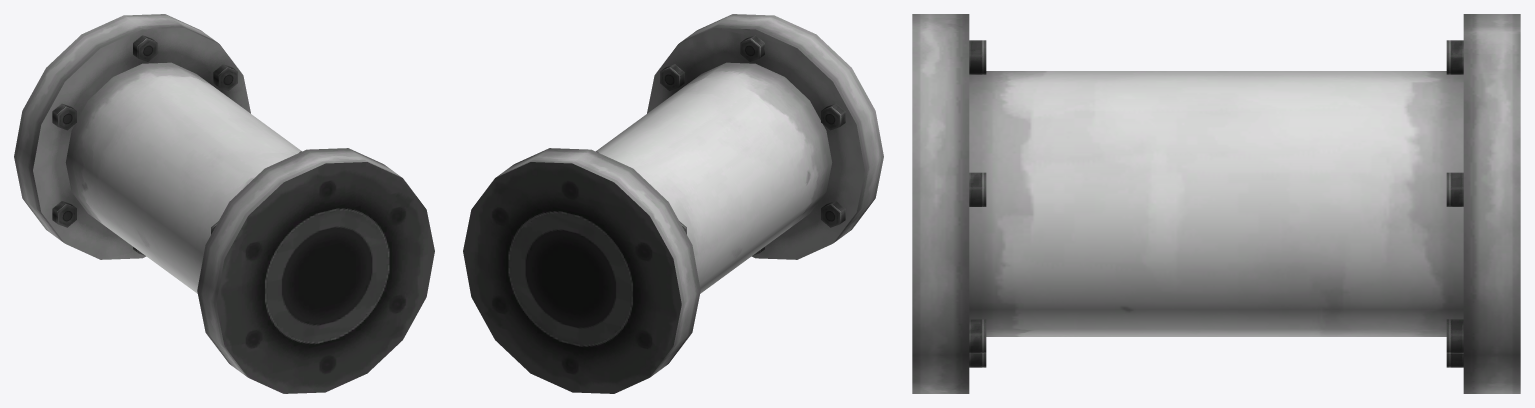
Rendered from pipe_64.glb.
3 renders of one model, left to right at view 1: azimuth 30°, elevation 25°; view 2: azimuth 150°, elevation 25°; view 3: azimuth 270°, elevation 25°, orthographic. The views are drawn at different scales.
Parts seen in each view (by area): view 1: pipe_64; view 2: pipe_64; view 3: pipe_64.
Boxes of the visible parts, x1,y1,x2,y2 form: pipe_64: (14,14,434,393); pipe_64: (463,14,883,393); pipe_64: (912,14,1520,393).
Bounding box in the file's own units: 0.762 × 0.762 × 1.22.
1 material, 1 textured.
